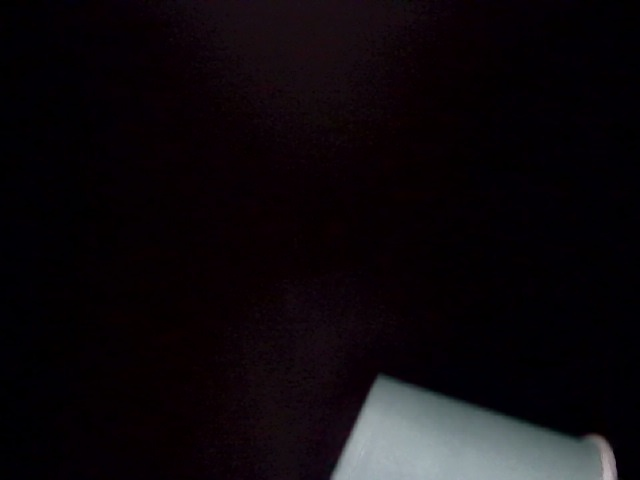KHSLJ: (160, 286, 640, 476)
